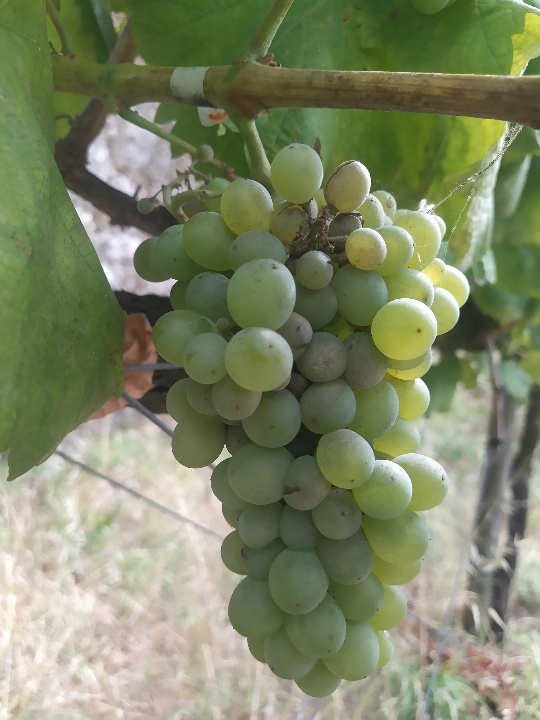grape: (132, 137, 481, 699)
